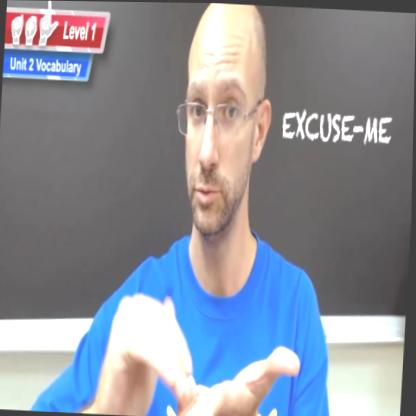ExcuseMe: (96, 274, 308, 416)
